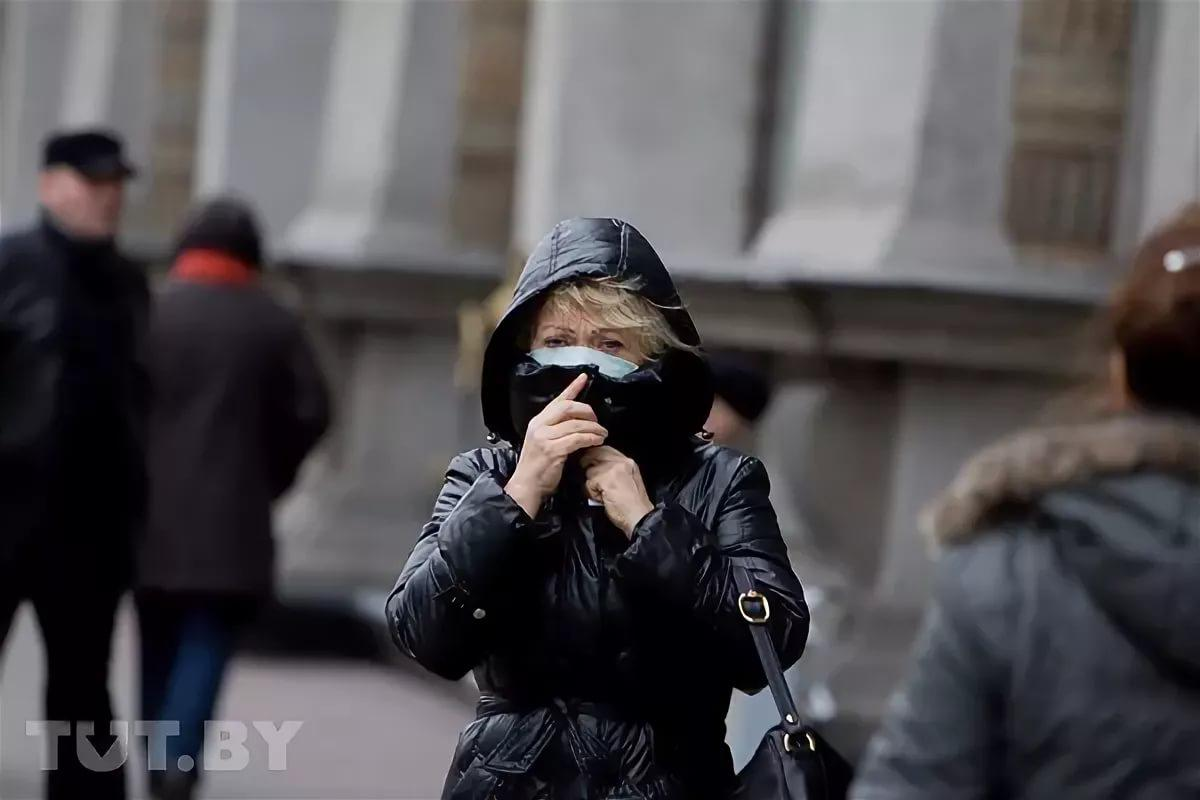mask: (533, 269, 655, 399)
